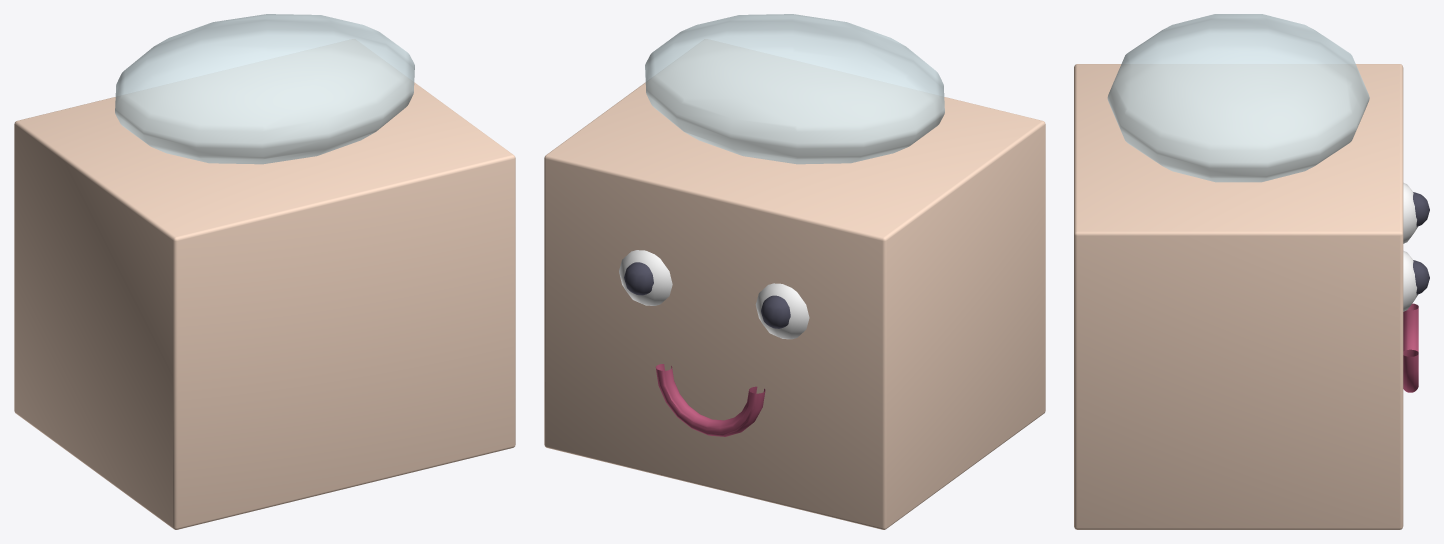
Rendered from wallcell.glb.
The picture shows the model from 3 angles, left to right: view 1: azimuth 30°, elevation 25°; view 2: azimuth 150°, elevation 25°; view 3: azimuth 270°, elevation 25°; orthographic projection.
Parts seen in each view (by area): view 1: wallcell; view 2: wallcell; view 3: wallcell.
Boxes of the visible parts, x1,y1,x2,y2 form: wallcell: (14, 14, 515, 529); wallcell: (544, 14, 1045, 529); wallcell: (1074, 14, 1429, 529).
Bounding box in the file's own units: 1.1 × 1.2 × 0.9731.
